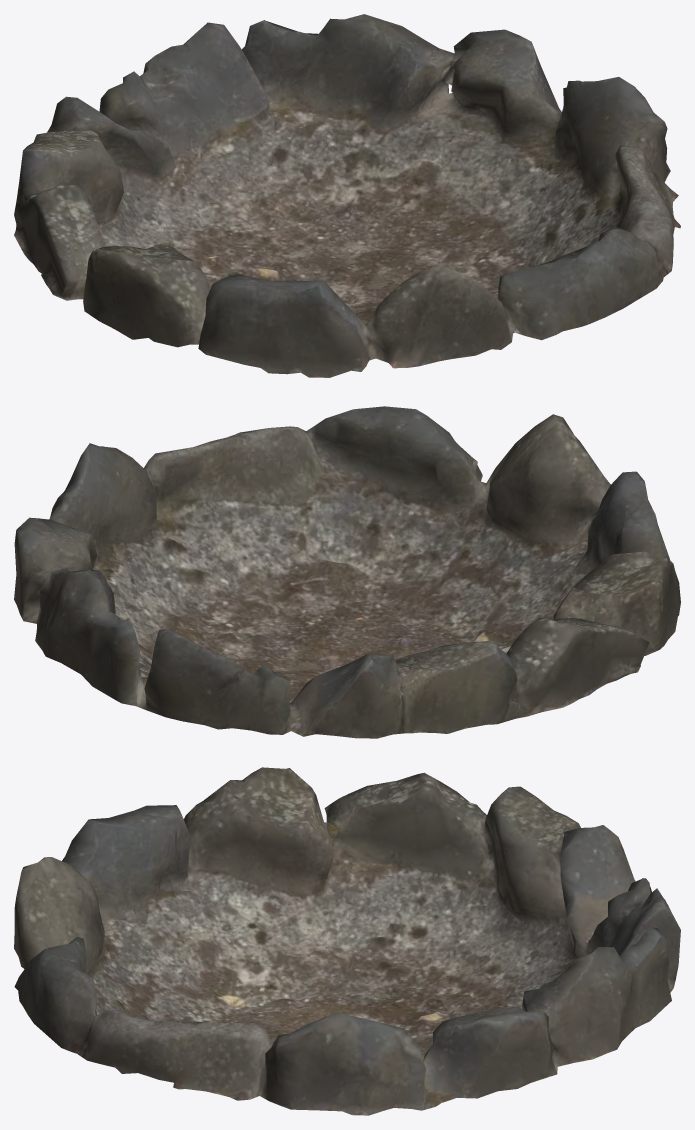
The model's file is stone_fire_pit.glb.
The picture shows the model from 3 angles, top to bottom: view 1: azimuth 30°, elevation 25°; view 2: azimuth 150°, elevation 25°; view 3: azimuth 270°, elevation 25°; orthographic projection.
Visible parts, largest first — view 1: stone_fire_pit; view 2: stone_fire_pit; view 3: stone_fire_pit.
Part boxes in pixels (box(x1,y1,x2,y2)): stone_fire_pit: box(14, 14, 680, 377); stone_fire_pit: box(14, 406, 680, 738); stone_fire_pit: box(14, 767, 680, 1115).
Size of the model in its own units: 1.45 by 0.3883 by 1.43.
1 material, 1 textured.
